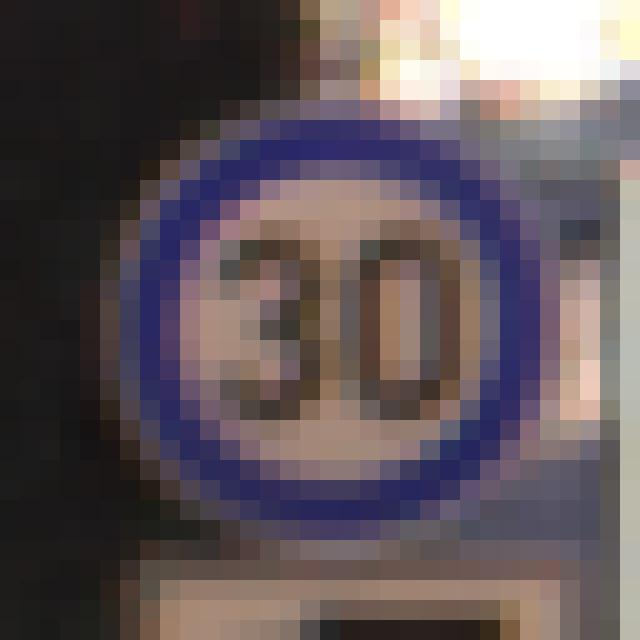SPEED LIMIT 30: (162, 170, 552, 534)
